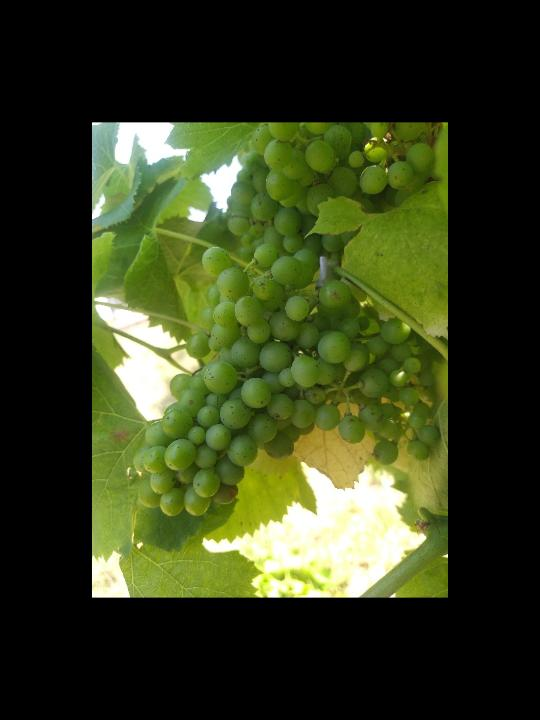grape: (129, 243, 441, 518)
